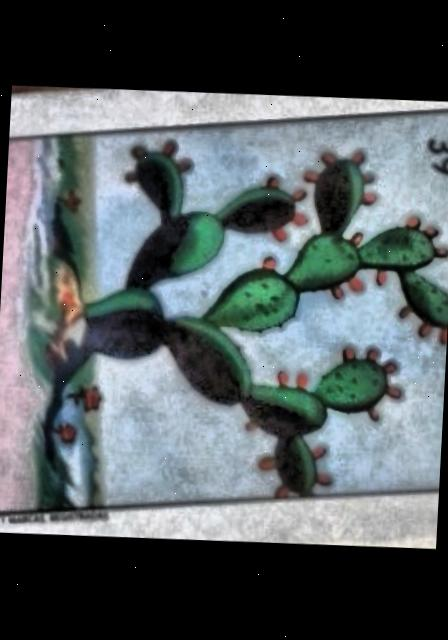El Nopal: (0, 113, 448, 510)
